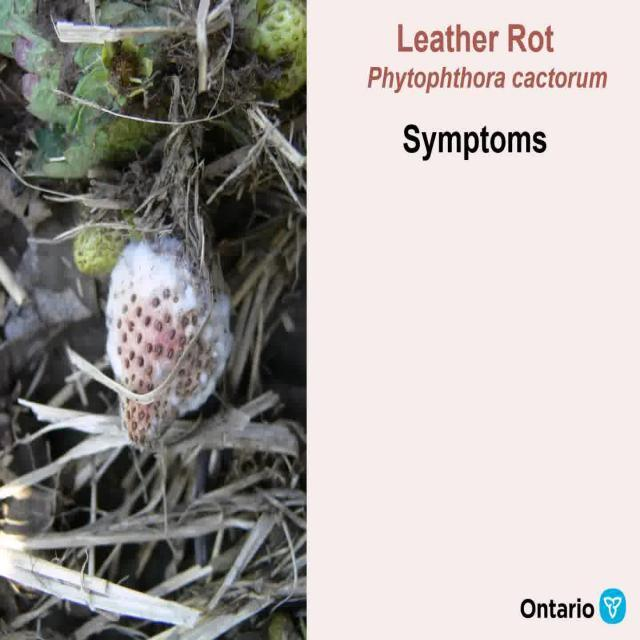Moho gris: (101, 215, 237, 470)
